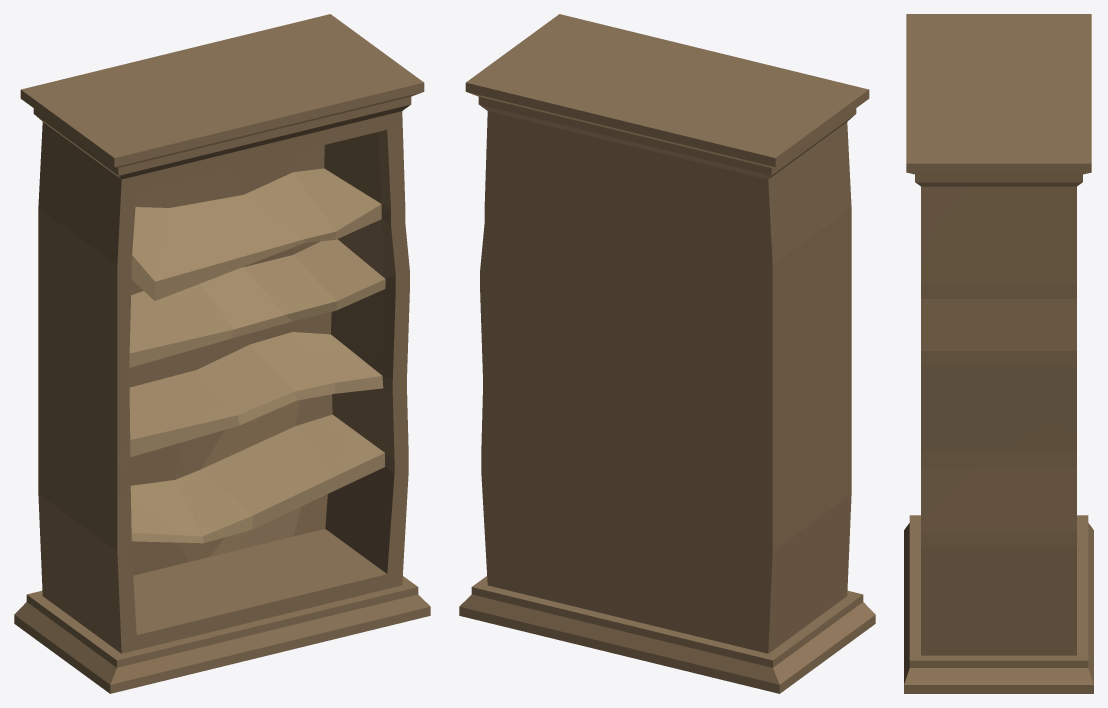
Rendered from shelf_1.glb.
The picture shows the model from 3 angles, left to right: view 1: azimuth 30°, elevation 25°; view 2: azimuth 150°, elevation 25°; view 3: azimuth 270°, elevation 25°; orthographic projection.
Parts seen in each view (by area): view 1: shelf_1; view 2: shelf_1; view 3: shelf_1.
Boxes of the visible parts, x1,y1,x2,y2 form: shelf_1: (14,14,430,693); shelf_1: (459,14,875,693); shelf_1: (904,14,1093,693).
Size of the model in its own units: 1.01 by 1.6 by 0.5232.
Materials: 1 (1 with a texture image).
